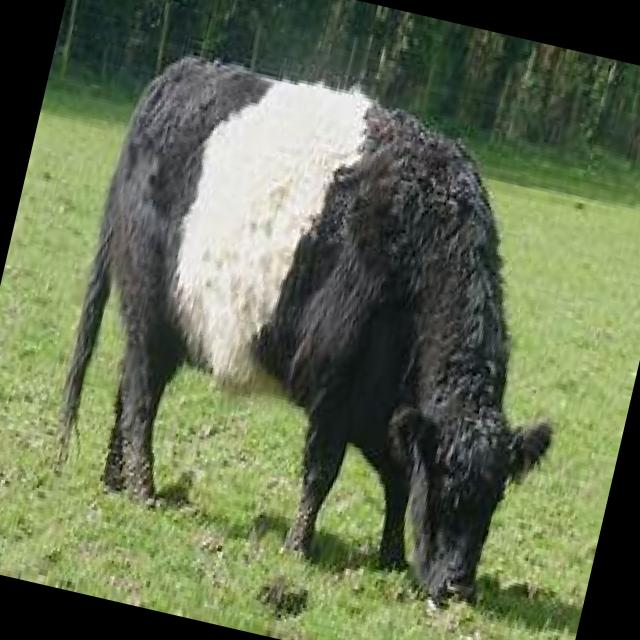animal: (29, 44, 618, 616)
